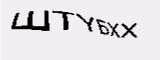В: (60, 23, 71, 51)
Е: (27, 24, 47, 47)
Ж: (72, 26, 103, 58)
Ш: (105, 22, 132, 56)
Э: (48, 23, 59, 49)
